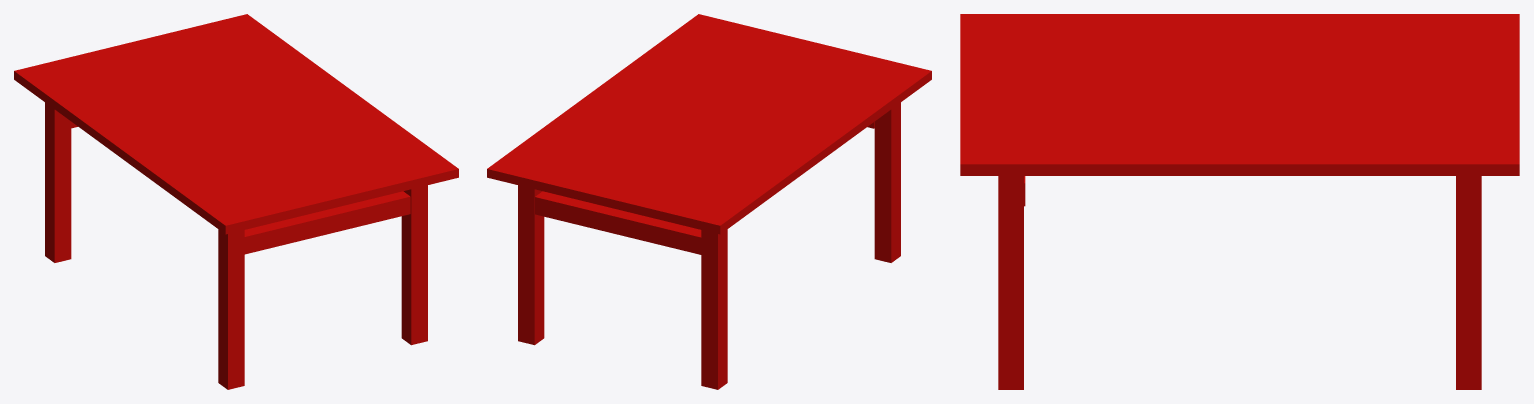
File: table.obj
The picture shows the model from 3 angles, left to right: view 1: azimuth 30°, elevation 25°; view 2: azimuth 150°, elevation 25°; view 3: azimuth 270°, elevation 25°; orthographic projection. The views are drawn at different scales.
Visible parts, largest first — view 1: Platte_Untitled, Bein_Untitled.007, Stütze_2_Untitled.006, Bein_3_Untitled.004, Bein_2_Untitled.001; view 2: Platte_Untitled, Stütze_Untitled.003, Bein_3_Untitled.004, Bein_Untitled.007, Bein_4_Untitled.002; view 3: Platte_Untitled, Bein_4_Untitled.002, Bein_2_Untitled.001.
Boxes of the visible parts, <box> form: Platte_Untitled: <box>14,14,458,234</box>; Bein_Untitled.007: <box>218,229,244,389</box>; Stütze_2_Untitled.006: <box>244,191,410,254</box>; Bein_3_Untitled.004: <box>45,102,71,262</box>; Bein_2_Untitled.001: <box>401,185,427,345</box>; Platte_Untitled: <box>487,14,931,234</box>; Stütze_Untitled.003: <box>535,191,701,254</box>; Bein_3_Untitled.004: <box>701,229,727,389</box>; Bein_Untitled.007: <box>874,102,900,262</box>; Bein_4_Untitled.002: <box>518,185,544,345</box>; Platte_Untitled: <box>960,14,1519,175</box>; Bein_4_Untitled.002: <box>1456,176,1481,389</box>; Bein_2_Untitled.001: <box>998,176,1023,389</box>.
Bounding box in the file's own units: 1.4 × 1.03 × 2.2.
